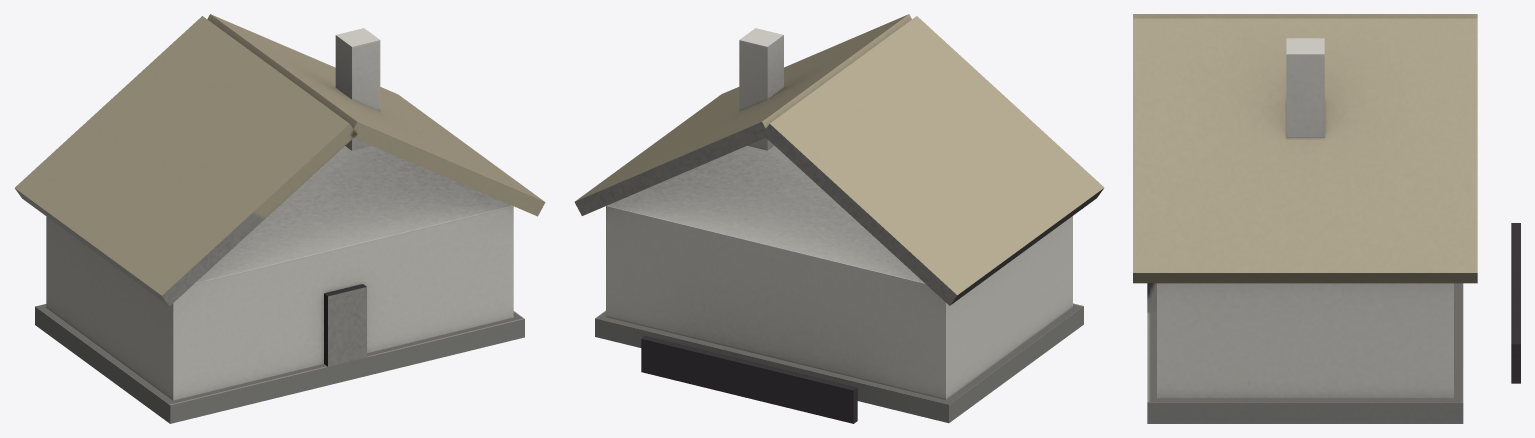
File: BLD_house.fbx
The picture shows the model from 3 angles, left to right: view 1: azimuth 30°, elevation 25°; view 2: azimuth 150°, elevation 25°; view 3: azimuth 270°, elevation 25°; orthographic projection. The views are drawn at different scales.
Visible parts, largest first — view 1: BLD_house; view 2: BLD_house; view 3: BLD_house.
Boxes of the visible parts, x1,y1,x2,y2 form: BLD_house: (15,14,545,423); BLD_house: (574,14,1104,423); BLD_house: (1133,14,1520,423).
Bounding box in the file's own units: 108 × 74 × 81.
